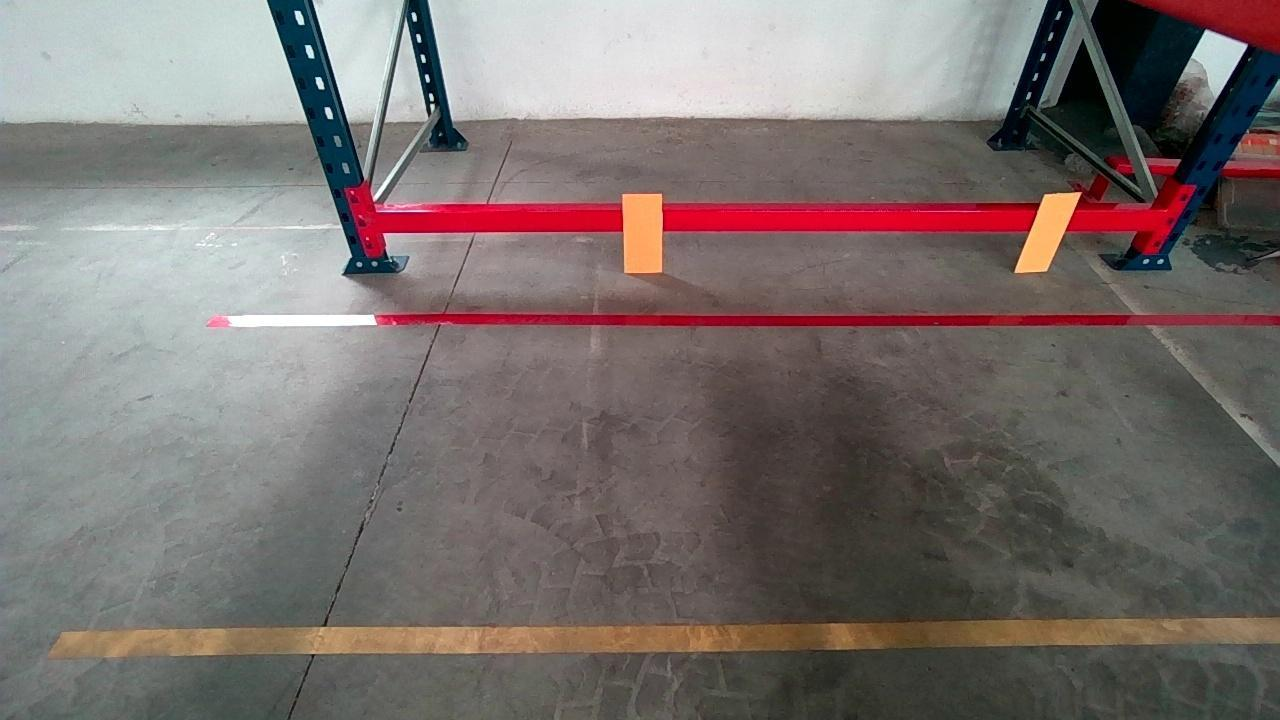h_rack: (373, 208, 1163, 230)
orange_strip: (1014, 192, 1083, 270), (624, 192, 663, 271)
red_line: (205, 314, 1280, 327)
yellow_line: (42, 617, 1280, 658)
